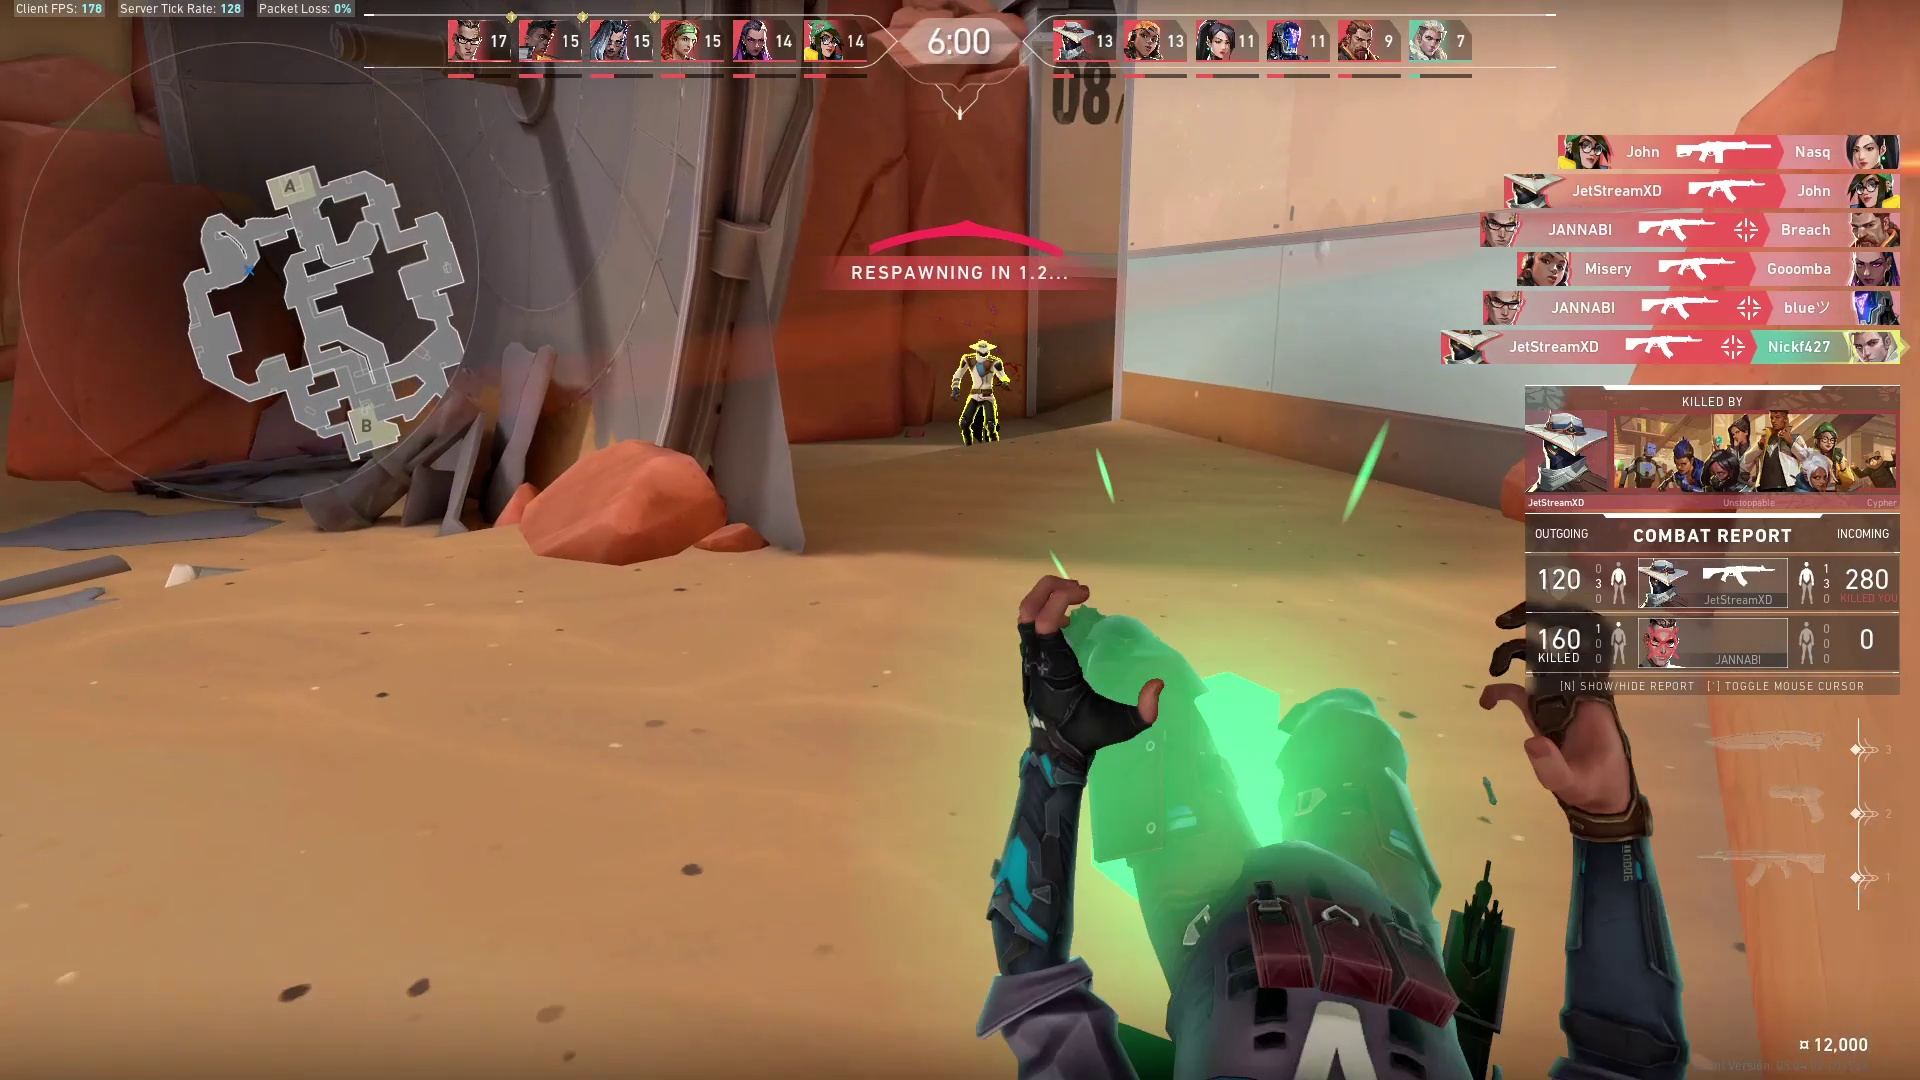enemy_body: (944, 356, 1017, 444)
enemy_head: (964, 335, 1002, 362)
